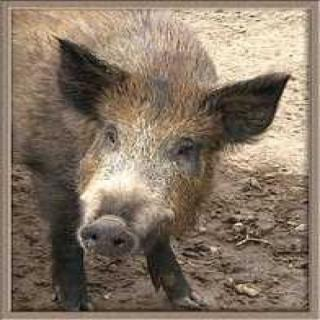Pig: (0, 0, 287, 315)
